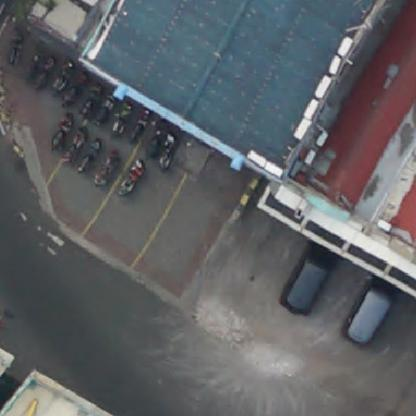Car: (342, 266, 393, 350), (282, 240, 334, 320)
Motorcycle: (118, 152, 142, 200), (5, 24, 28, 67), (50, 110, 73, 152), (92, 148, 114, 190), (76, 136, 100, 174), (64, 124, 86, 162), (64, 68, 84, 106), (130, 108, 151, 142), (110, 98, 127, 138), (53, 58, 72, 92), (160, 134, 176, 172), (80, 84, 96, 119), (96, 88, 110, 126), (39, 52, 53, 86), (148, 120, 160, 156)
